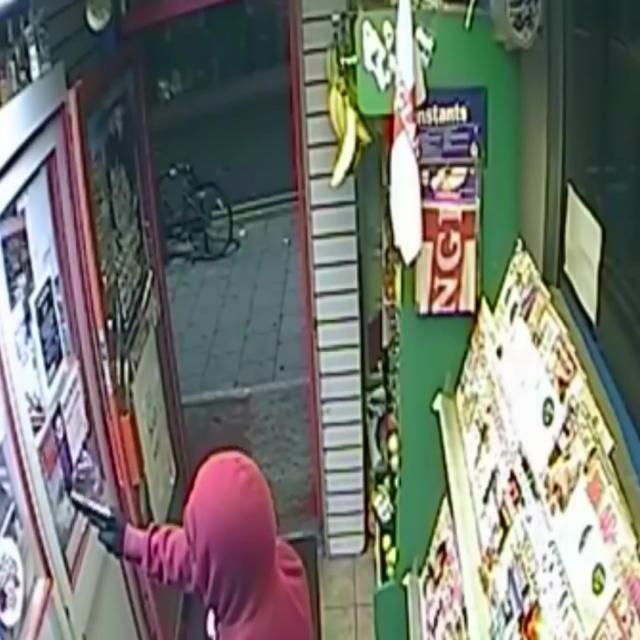Weapon: (65, 488, 114, 553)
